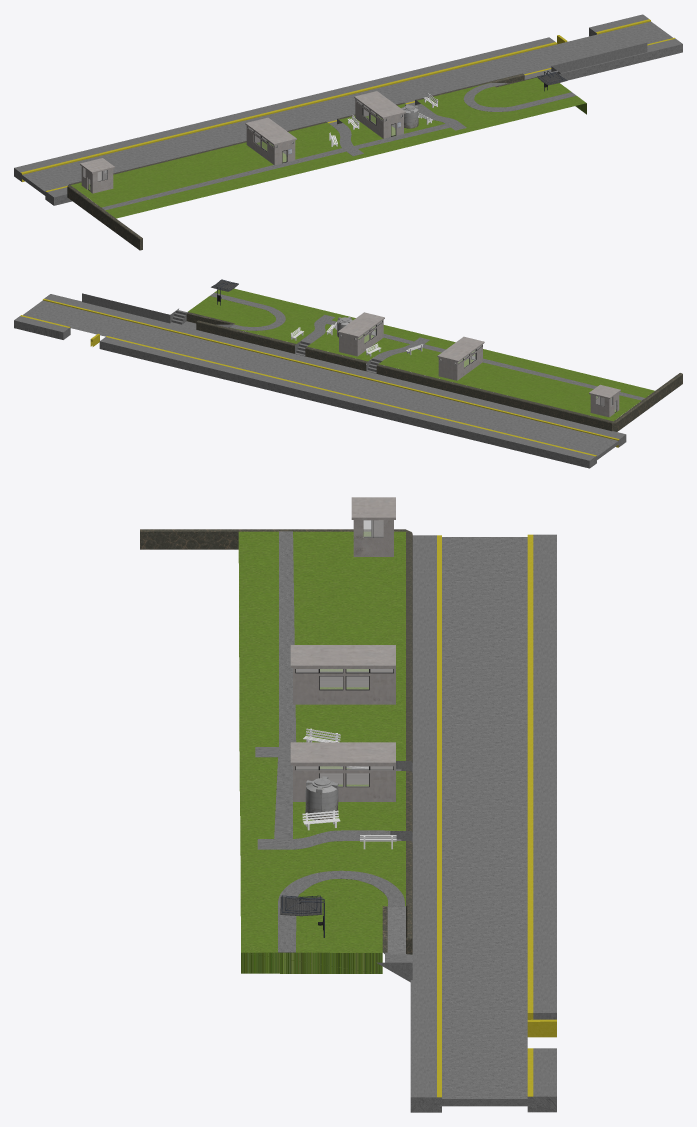
Rendered from Salones-OPT.glb.
3 renders of one model, top to bottom at view 1: azimuth 30°, elevation 25°; view 2: azimuth 150°, elevation 25°; view 3: azimuth 270°, elevation 25°, orthographic. The views are drawn at different scales.
Parts seen in each view (by area): view 1: Banqueta, Cesped_PB, Caminos, Salones.001, Paredes_PB.002, Ventanas, Bench; view 2: Banqueta, Cesped_PB, Paredes_PB.002, Caminos, Salones.001, Ventanas, Bench; view 3: Banqueta, Cesped_PB, Salones.001, Caminos, Paredes_PB.002, Ventanas, Bench, Tinaco, Bebedero.002.
Boxes of the visible parts, bbox=[...] form: Banqueta: bbox=[14, 14, 682, 205]; Cesped_PB: bbox=[71, 77, 586, 218]; Caminos: bbox=[101, 43, 647, 210]; Salones.001: bbox=[80, 91, 405, 193]; Paredes_PB.002: bbox=[67, 73, 536, 250]; Ventanas: bbox=[83, 100, 402, 189]; Bench: bbox=[329, 93, 437, 146]; Banqueta: bbox=[14, 294, 626, 468]; Cesped_PB: bbox=[188, 288, 654, 421]; Paredes_PB.002: bbox=[186, 312, 682, 431]; Caminos: bbox=[82, 292, 644, 400]; Salones.001: bbox=[338, 312, 620, 417]; Ventanas: bbox=[340, 321, 616, 411]; Bench: bbox=[291, 322, 423, 356]; Banqueta: bbox=[410, 534, 556, 1112]; Cesped_PB: bbox=[238, 531, 405, 973]; Salones.001: bbox=[290, 497, 395, 801]; Caminos: bbox=[255, 531, 412, 982]; Paredes_PB.002: bbox=[140, 529, 412, 954]; Ventanas: bbox=[295, 520, 393, 787]; Bench: bbox=[302, 728, 396, 849]; Tinaco: bbox=[305, 776, 338, 820]; Bebedero.002: bbox=[280, 895, 324, 937].
Size of the model in its own units: 1.07 by 0.065 by 0.3359.
Materials: 15 (11 with a texture image).
